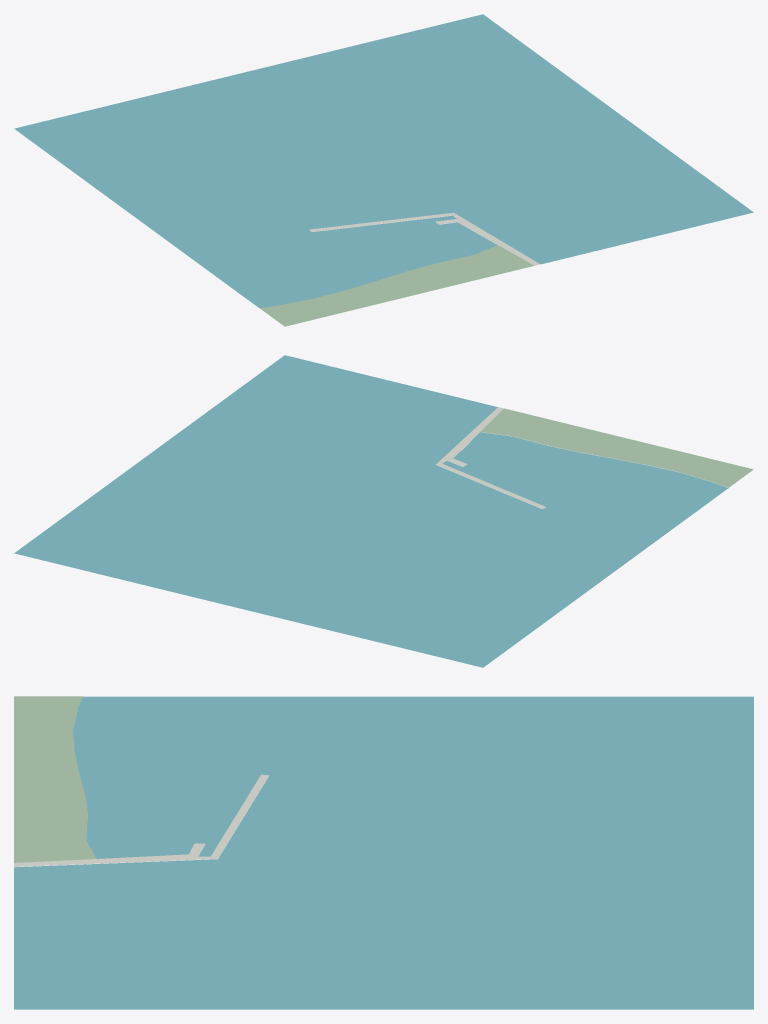
3 renders of one model, top to bottom at view 1: azimuth 30°, elevation 25°; view 2: azimuth 150°, elevation 25°; view 3: azimuth 270°, elevation 25°, orthographic. The views are drawn at different scales.
Parts seen in each view (by area): view 1: city; view 2: city; view 3: city.
Boxes of the visible parts, left/top/right/bottom form: city: left=14, top=14, right=753, bottom=326; city: left=14, top=355, right=753, bottom=667; city: left=14, top=696, right=753, bottom=1009.
Bounding box in the file's own units: 500 × 0.205 × 500.
